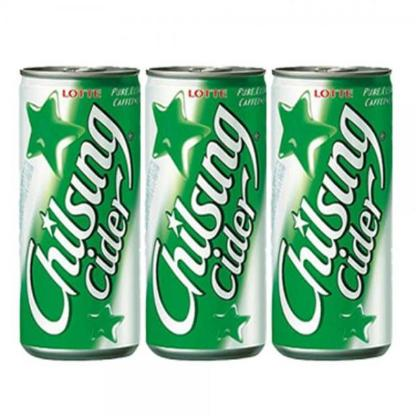Can: (274, 65, 400, 361), (19, 64, 139, 362), (148, 65, 266, 361)
